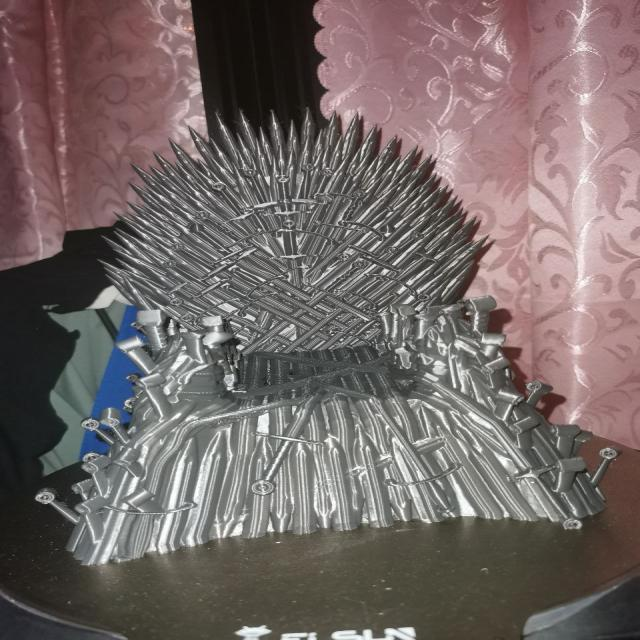Without deffect: (107, 102, 592, 540)
